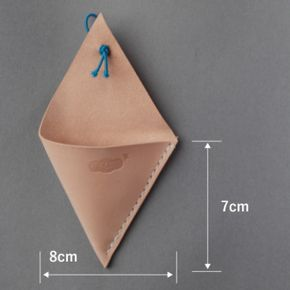cuero: (38, 12, 179, 268)
